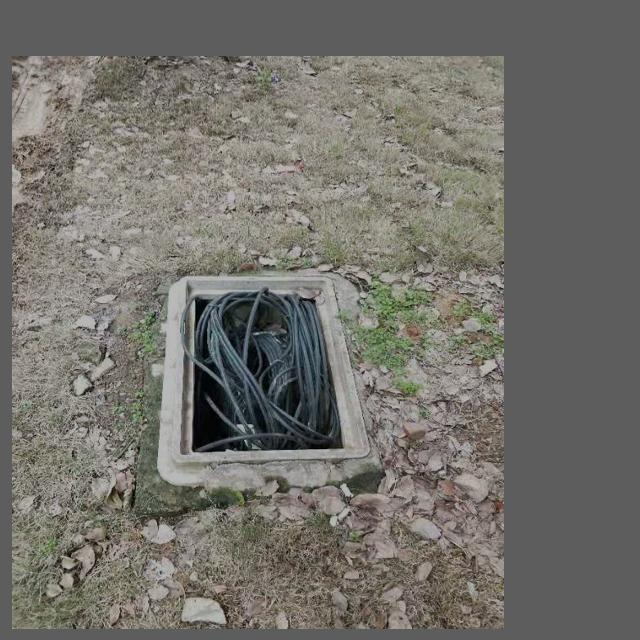lose: (170, 267, 362, 472)
